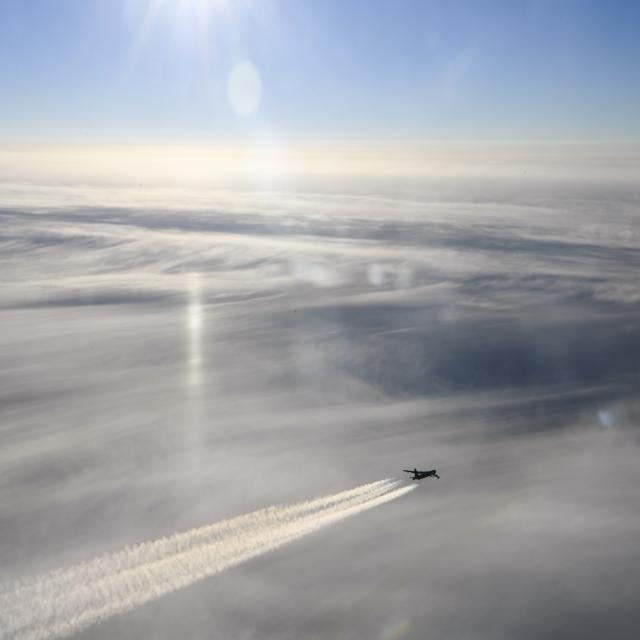MIL_Plane: (402, 449, 440, 461)
